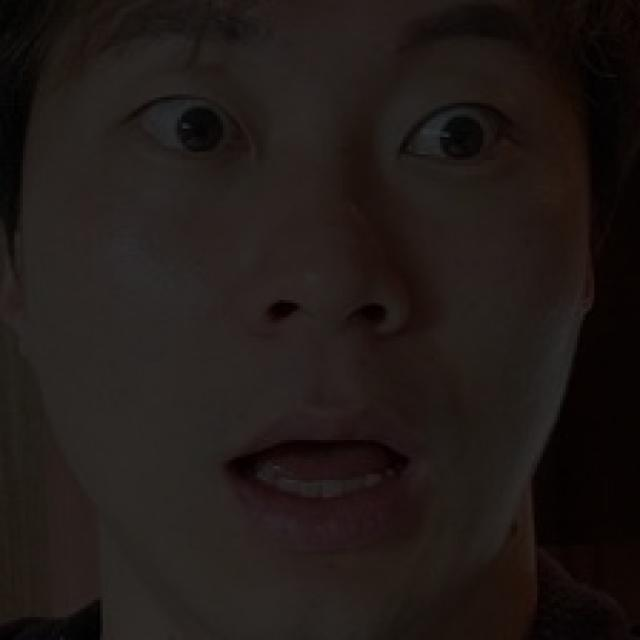Surprised: (63, 33, 586, 555)
